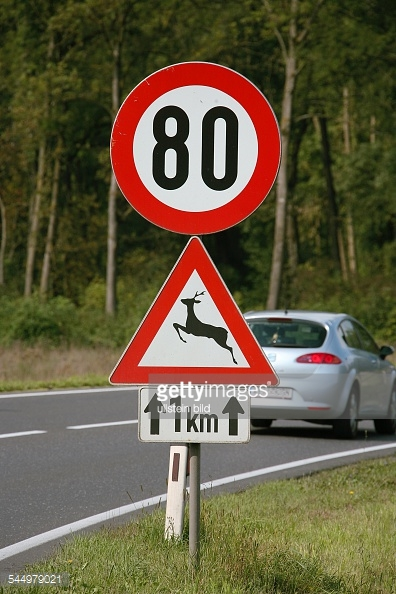Speed_limit_80km: (109, 60, 280, 234)
